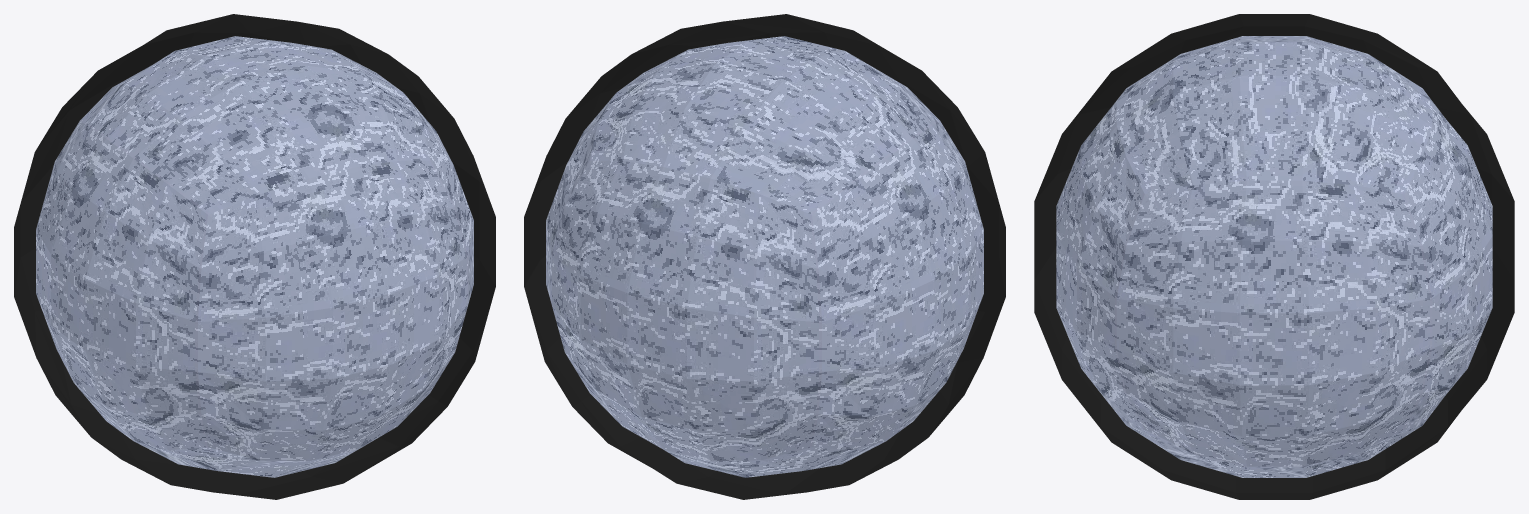
Rendered from pixel_planet_1-transformed.glb.
3 renders of one model, left to right at view 1: azimuth 30°, elevation 25°; view 2: azimuth 150°, elevation 25°; view 3: azimuth 270°, elevation 25°, orthographic.
Parts seen in each view (by area): view 1: Object_2; view 2: Object_2; view 3: Object_2.
Part boxes in pixels (box(x1,y1,x2,y2)): Object_2: box(14, 14, 495, 499); Object_2: box(524, 14, 1005, 499); Object_2: box(1034, 14, 1514, 499).
Size of the model in its own units: 3.7 by 3.7 by 3.7.
1 material, 1 textured.
